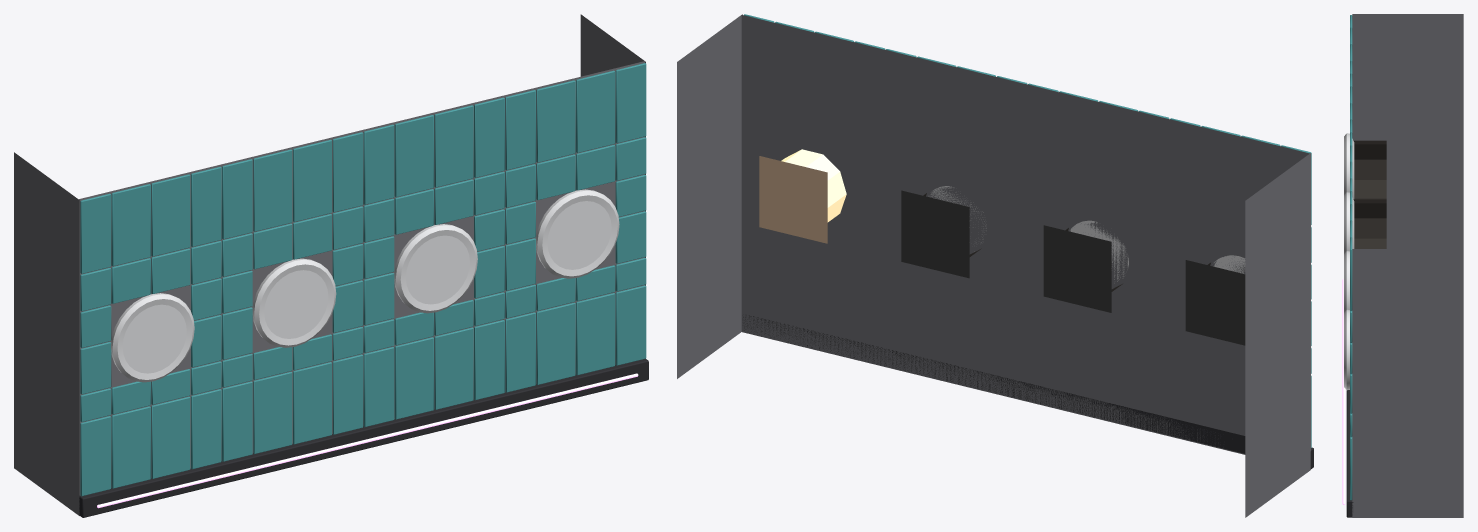
File: retro_upper_6b.glb
3 renders of one model, left to right at view 1: azimuth 30°, elevation 25°; view 2: azimuth 150°, elevation 25°; view 3: azimuth 270°, elevation 25°, orthographic. The views are drawn at different scales.
Visible parts, largest first — view 1: retro_upper_6b; view 2: retro_upper_6b; view 3: retro_upper_6b.
Part boxes in pixels (x1=…): retro_upper_6b: x1=14, y1=14, x2=648, y2=517; retro_upper_6b: x1=677, y1=14, x2=1313, y2=517; retro_upper_6b: x1=1342, y1=14, x2=1463, y2=517.
Size of the model in its own units: 6 by 3.2 by 1.31.
